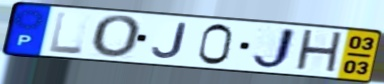0: (196, 22, 236, 66)
H: (293, 28, 346, 76)
J: (249, 26, 299, 71), (149, 22, 189, 61)
L: (48, 10, 85, 56)
O: (90, 14, 145, 60)
